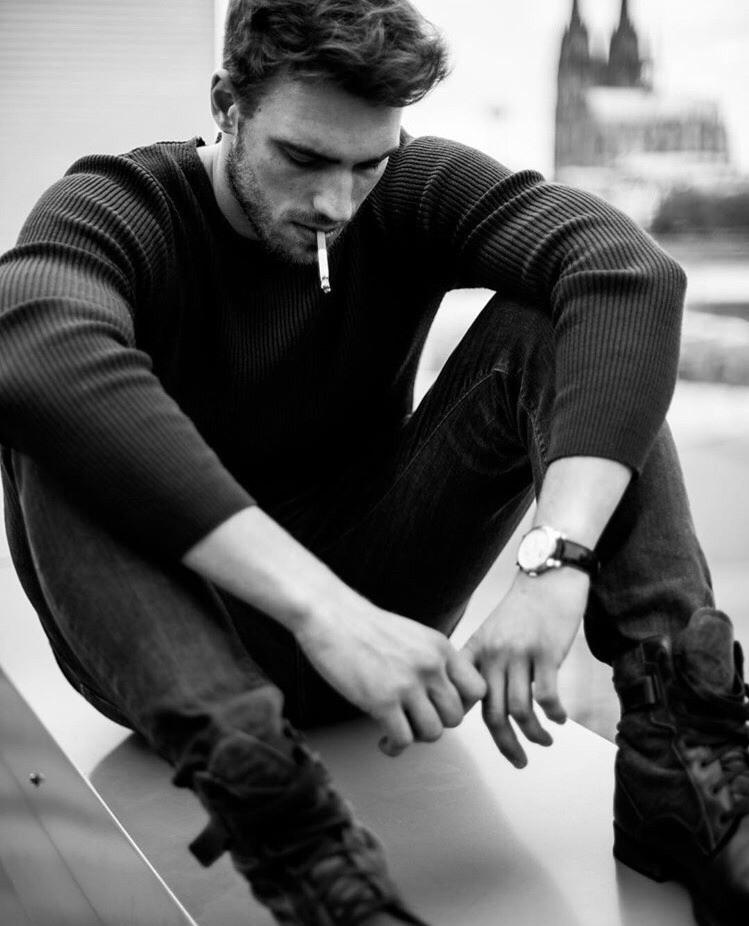cigarette: (317, 232, 329, 293)
